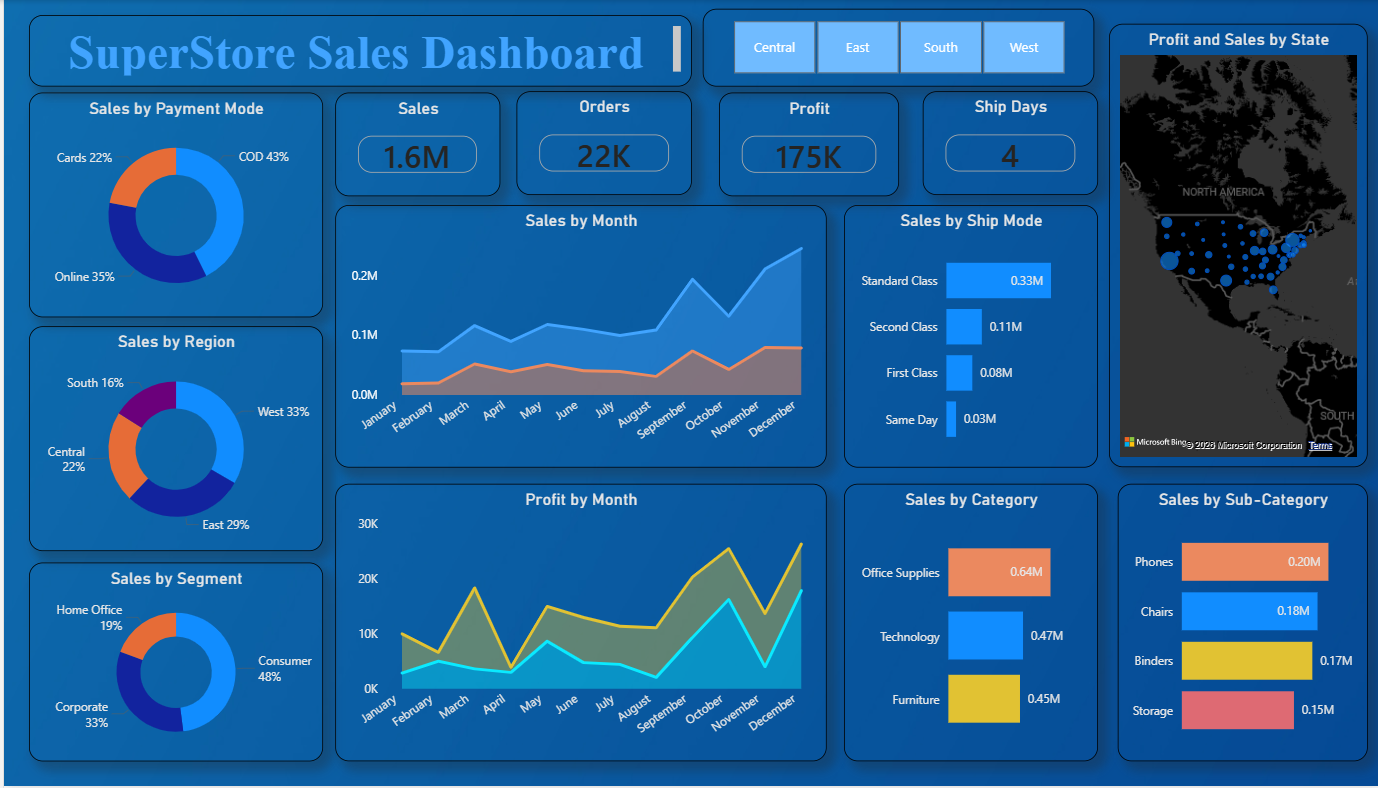

What the dashboard file says about the page in this screenshot:
{"tool":"powerbi","page":{"name":"Page 1","canvas":[1400,800],"ordinal":0},"visuals":[{"type":"clusteredBarChart","title":"Sales by Category","fields":{"Category":["Sheet1.Category"],"Y":["Sum(Sheet1.Sales)"]},"box":[854.7,492.2,258.2,282.3],"z":0},{"type":"clusteredBarChart","title":"Sales by Sub-Category","fields":{"Y":["Sum(Sheet1.Sales)"],"Category":["Sheet1.Sub-Category"]},"box":[1133.2,492.2,254.4,282.3],"z":1000},{"type":"clusteredBarChart","title":"Sales by Ship Mode","fields":{"Y":["Sum(Sheet1.Sales)"],"Category":["Sheet1.Ship Mode"]},"box":[854.7,208.6,258.2,267.1],"z":2000},{"type":"stackedAreaChart","title":"Sales by Month","fields":{"Y":["Sum(Sheet1.Sales)"],"Category":["Sheet1.Order Date.Variation.Date Hierarchy.Month","Sheet1.Order Date.Variation.Date Hierarchy.Day"],"Series":["Sheet1.Order Date.Variation.Date Hierarchy.Year"]},"box":[337,208.6,499.8,267.1],"z":3000},{"type":"stackedAreaChart","title":"Profit by Month","fields":{"Category":["Sheet1.Order Date.Variation.Date Hierarchy.Month","Sheet1.Order Date.Variation.Date Hierarchy.Day"],"Series":["Sheet1.Order Date.Variation.Date Hierarchy.Year"],"Y":["Sum(Sheet1.Profit)"]},"box":[337,492.2,499.8,282.3],"z":4000},{"type":"map","title":"Profit and Sales by State","fields":{"Category":["Sheet1.State"],"Size":["Sum(Sheet1.Sales)"]},"box":[1124.3,24.2,263.3,451.5],"z":5000},{"type":"donutChart","title":"Sales by Segment","fields":{"Category":["Sheet1.Segment"],"Y":["Sum(Sheet1.Sales)"]},"box":[25.4,572.3,298.9,202.2],"z":6000},{"type":"donutChart","title":"Sales by Payment Mode","fields":{"Y":["Sum(Sheet1.Sales)"],"Category":["Sheet1.Payment Mode"]},"box":[25.4,94.1,298.9,228.9],"z":7000},{"type":"slicer","fields":{"Values":["Sheet1.Region"]},"box":[710.9,8.9,398.1,78.9],"z":8000},{"type":"textbox","box":[25.4,15.3,674.1,72.5],"z":9000},{"type":"cardVisual","title":"Sales","fields":{"Data":["Sum(Sheet1.Sales)"]},"box":[337,94.1,167.9,105.6],"z":10000},{"type":"cardVisual","title":"Orders","fields":{"Data":["Sum(Sheet1.Quantity)"]},"box":[521.4,92.8,178.1,105.6],"z":11000},{"type":"cardVisual","title":"Profit","fields":{"Data":["Sum(Sheet1.Profit)"]},"box":[727.5,94.1,183.1,105.6],"z":12000},{"type":"cardVisual","title":"Ship Days","fields":{"Data":["Avg(Sheet1.AvgDelivery)"]},"box":[934.8,92.8,178.1,105.6],"z":13000},{"type":"donutChart","title":"Sales by Region","fields":{"Y":["Sum(Sheet1.Sales)"],"Category":["Sheet1.Region"]},"box":[25.4,331.9,298.9,228.9],"z":14000}]}

Visuals, with their boxes in screenshot pixels (x1, y1, x2, y2), scaled from the page's 1400x800 canvas onto the 1378x788 screenshot:
"Sales by Category" clusteredBarChart: <bbox>841, 485, 1095, 763</bbox>
"Sales by Sub-Category" clusteredBarChart: <bbox>1115, 485, 1366, 763</bbox>
"Sales by Ship Mode" clusteredBarChart: <bbox>841, 205, 1095, 469</bbox>
"Sales by Month" stackedAreaChart: <bbox>332, 205, 824, 469</bbox>
"Profit by Month" stackedAreaChart: <bbox>332, 485, 824, 763</bbox>
"Profit and Sales by State" map: <bbox>1107, 24, 1366, 469</bbox>
"Sales by Segment" donutChart: <bbox>25, 564, 319, 763</bbox>
"Sales by Payment Mode" donutChart: <bbox>25, 93, 319, 318</bbox>
slicer - Sheet1.Region: <bbox>700, 9, 1092, 86</bbox>
textbox: <bbox>25, 15, 689, 86</bbox>
"Sales" cardVisual: <bbox>332, 93, 497, 197</bbox>
"Orders" cardVisual: <bbox>513, 91, 689, 195</bbox>
"Profit" cardVisual: <bbox>716, 93, 896, 197</bbox>
"Ship Days" cardVisual: <bbox>920, 91, 1095, 195</bbox>
"Sales by Region" donutChart: <bbox>25, 327, 319, 552</bbox>
